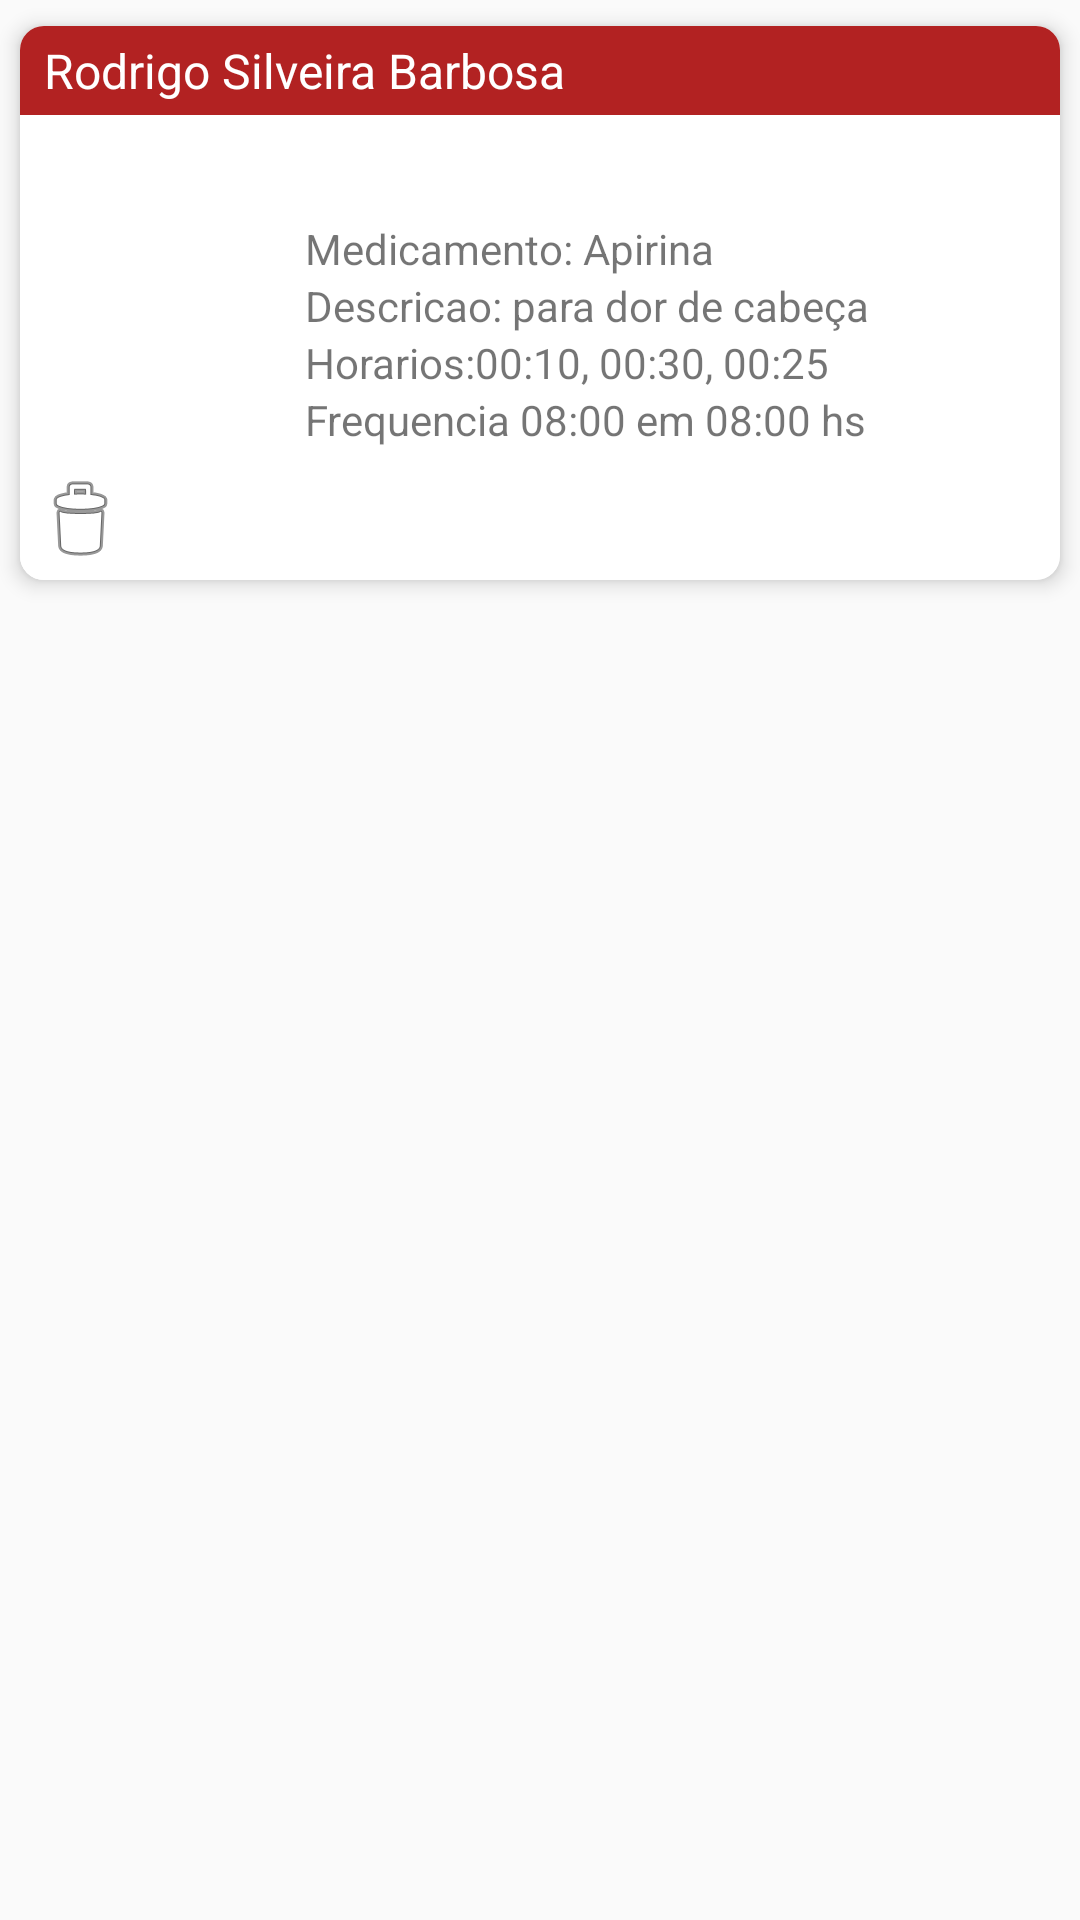

Icon click points for this 1080px×1920px phone screenshot, format point (x, y):
delete: point (80, 518)
